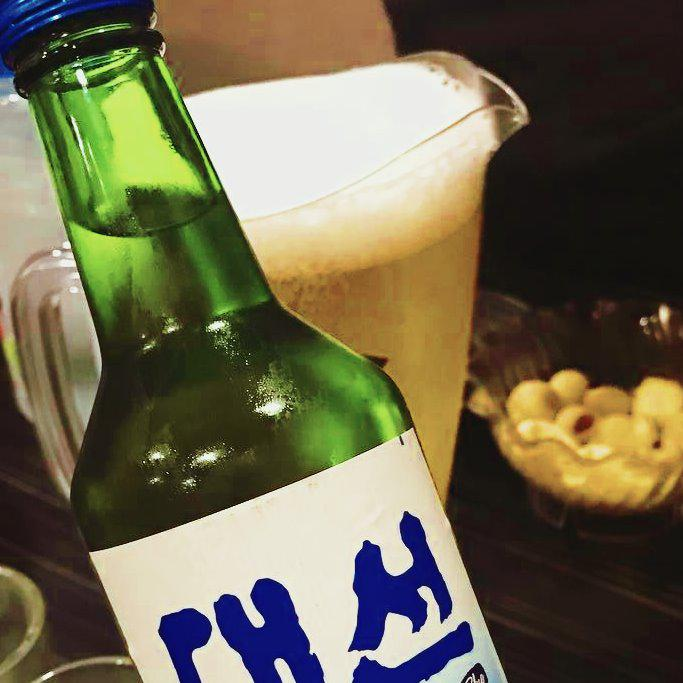soju: (4, 2, 514, 682)
